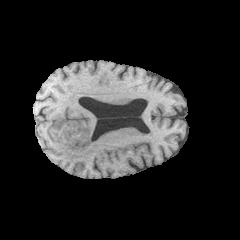glioma: (50, 109, 96, 162)
